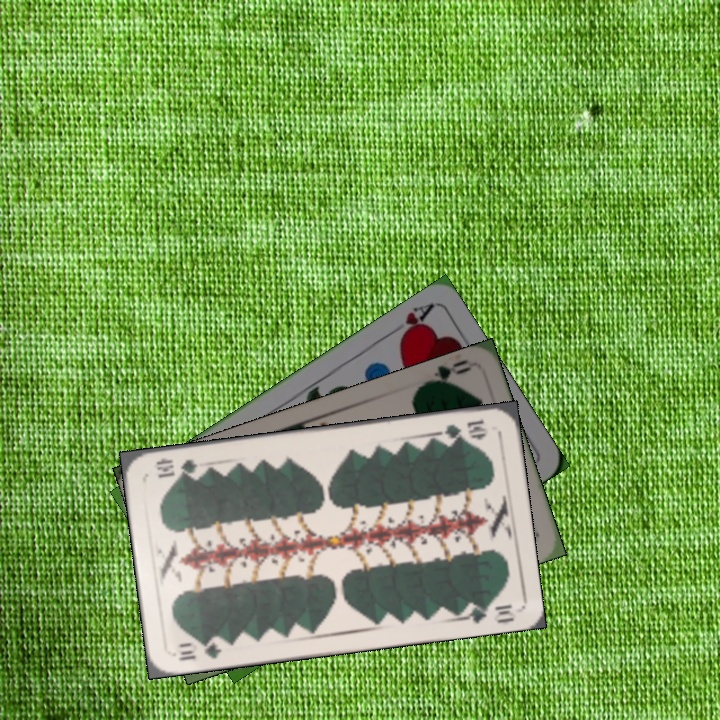G10: (434, 415, 491, 443), (171, 635, 224, 663)
GO: (418, 355, 474, 390)
HA: (383, 299, 436, 344)
